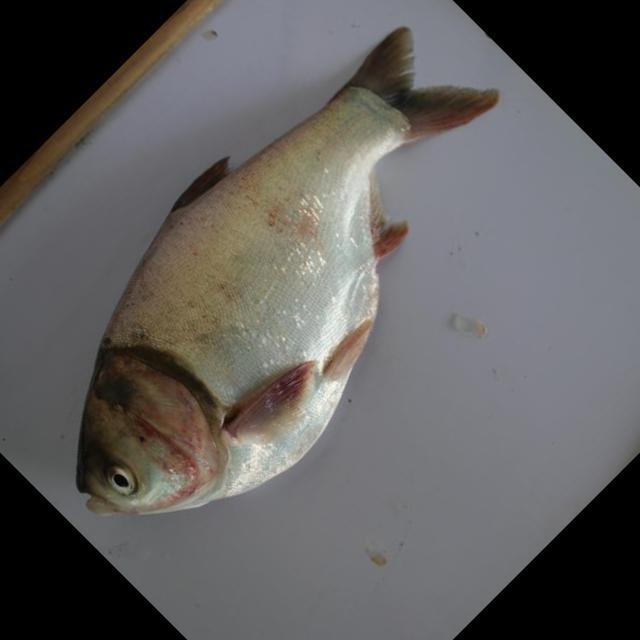SilverCarp: (74, 28, 481, 520)
